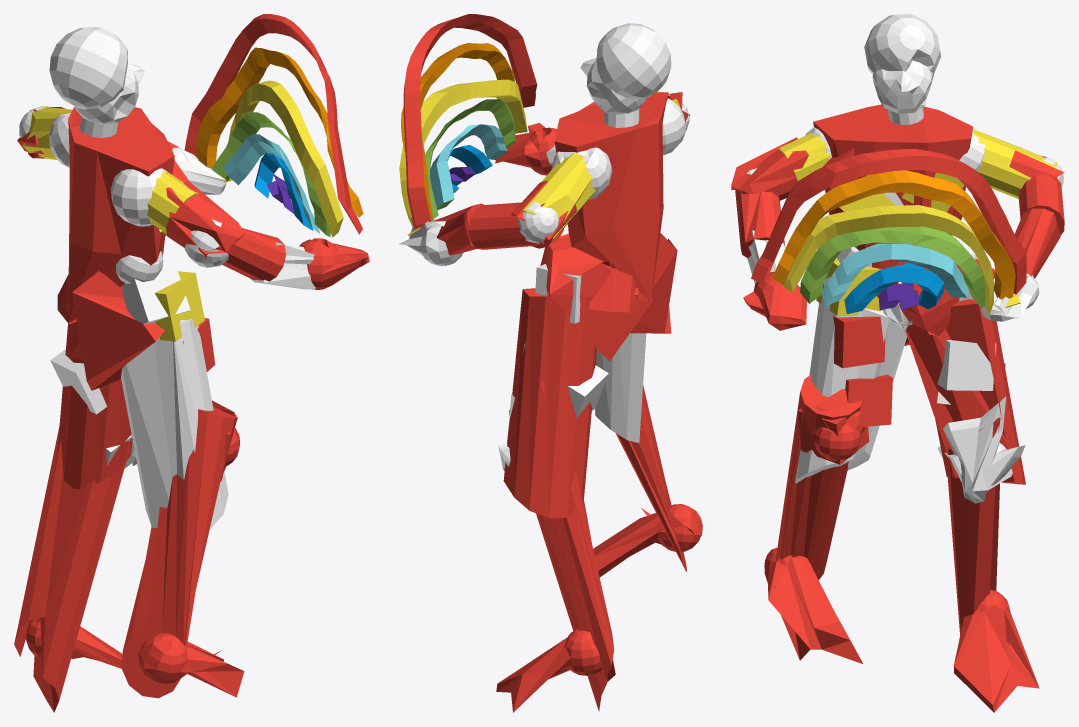
File: model-triangulated.obj
3 views of the same model, side by side, from view 1: azimuth 30°, elevation 25°; view 2: azimuth 150°, elevation 25°; view 3: azimuth 270°, elevation 25° (orthographic). The views are drawn at different scales.
Parts seen in each view (by area): view 1: group198124621, group1976074972, group1399368281, group737912304, group1891909028, group2118304296, group87715391, group128221253, group1409144821, group1818875347, group920836219, group1929683013 (+18 smaller); view 2: group2118304296, group1399368281, group198124621, group128221253, group607957233, group87715391, group737912304, group920836219, group1120699083, group1818875347, group1976074972, group496089870 (+18 smaller); view 3: group2118304296, group128221253, group1976074972, group1399368281, group1409144821, group1120699083, group920836219, group198124621, group737912304, group1818875347, group967917480, group585619410 (+25 smaller).
Part boxes in pixels (x1,y1,x2,y2): group198124621: [14, 426, 132, 712]; group1976074972: [121, 408, 237, 698]; group1399368281: [68, 107, 174, 323]; group737912304: [121, 318, 228, 529]; group1891909028: [65, 271, 164, 390]; group2118304296: [57, 323, 132, 489]; group87715391: [49, 27, 127, 109]; group128221253: [184, 14, 362, 234]; group1409144821: [196, 47, 363, 217]; group1818875347: [223, 80, 343, 237]; group920836219: [138, 633, 244, 697]; group1929683013: [166, 181, 244, 259]; group2118304296: [503, 288, 597, 518]; group1399368281: [554, 92, 668, 301]; group198124621: [509, 381, 615, 711]; group128221253: [403, 14, 537, 228]; group607957233: [540, 233, 652, 361]; group87715391: [596, 23, 671, 99]; group737912304: [594, 333, 646, 442]; group920836219: [593, 504, 702, 577]; group1120699083: [496, 629, 602, 712]; group1818875347: [399, 79, 527, 226]; group1976074972: [615, 385, 687, 571]; group496089870: [522, 153, 595, 241]; group2118304296: [905, 299, 1025, 484]; group128221253: [751, 149, 1026, 294]; group1976074972: [775, 375, 862, 579]; group1399368281: [813, 104, 972, 268]; group1409144821: [772, 170, 1015, 299]; group1120699083: [953, 589, 1039, 712]; group920836219: [764, 548, 862, 663]; group198124621: [947, 363, 1005, 635]; group737912304: [795, 296, 907, 483]; group1818875347: [782, 205, 993, 315]; group967917480: [800, 226, 985, 307]; group585619410: [943, 396, 1025, 503].
Bounding box in the file's own units: 0.8273 × 2.25 × 1.03.
